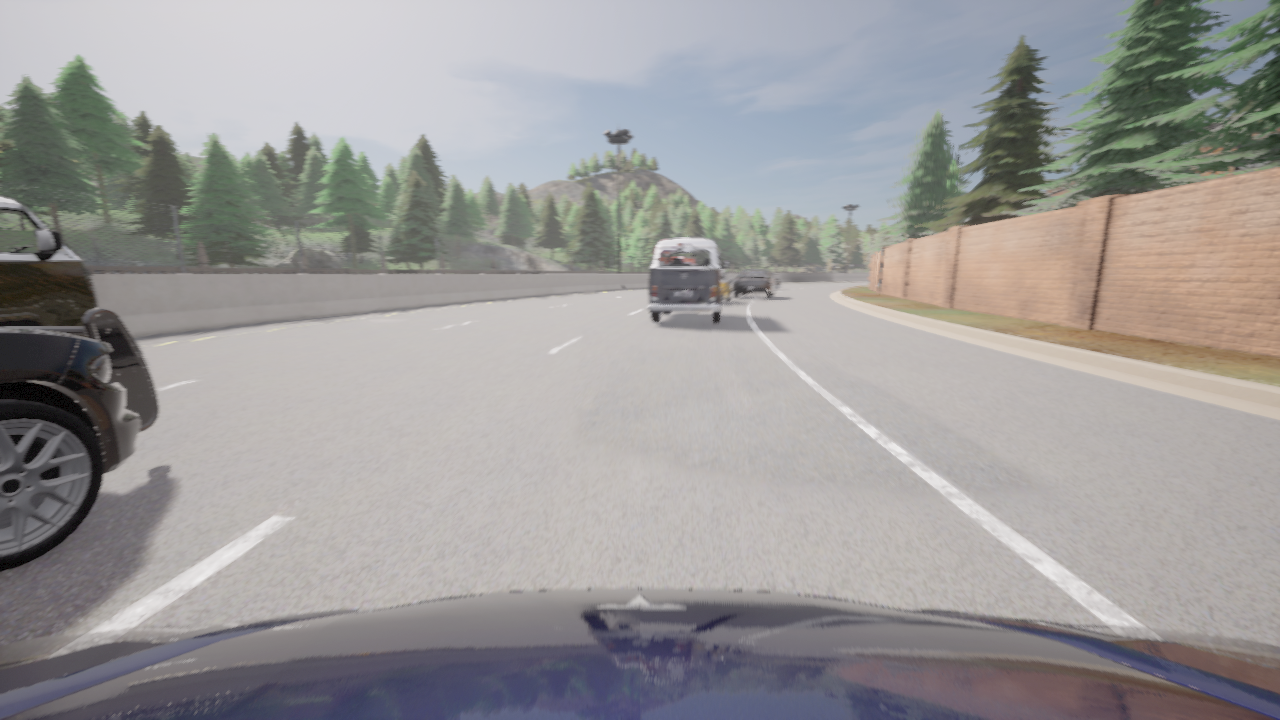cyclist: (0, 588, 1279, 719), (0, 308, 159, 572), (0, 196, 99, 337), (647, 238, 728, 323), (733, 268, 777, 297), (722, 271, 731, 301), (770, 271, 780, 288)
